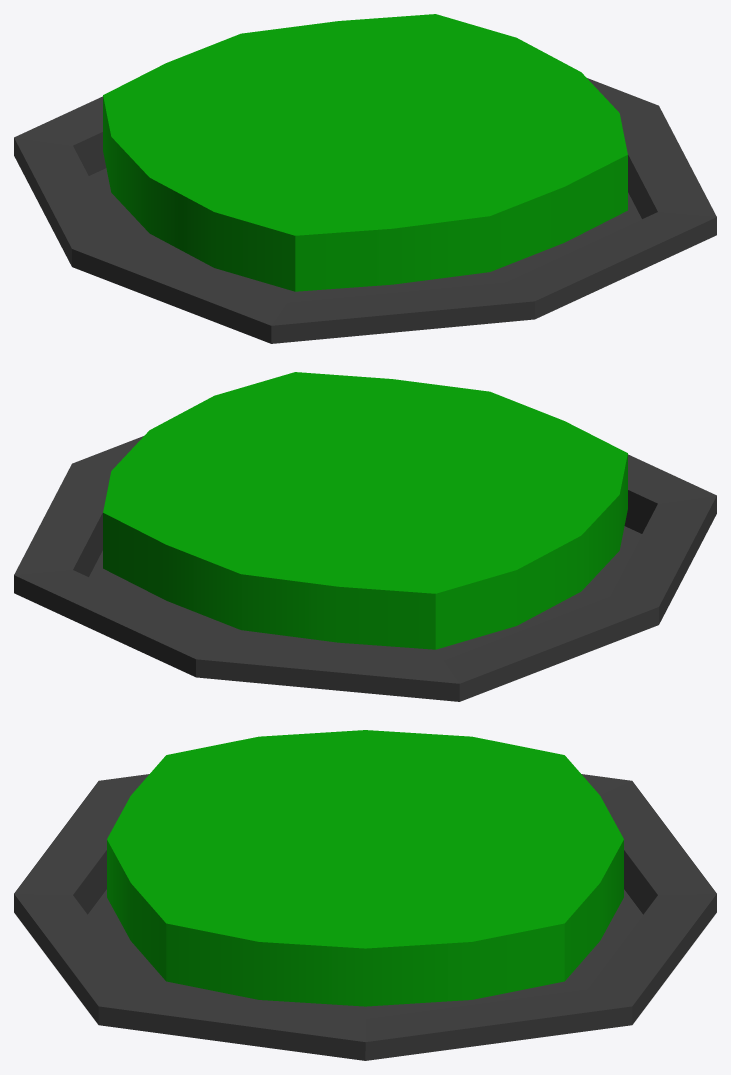
Rendered from Panel (1).fbx.
The picture shows the model from 3 angles, top to bottom: view 1: azimuth 30°, elevation 25°; view 2: azimuth 150°, elevation 25°; view 3: azimuth 270°, elevation 25°; orthographic projection. The views are drawn at different scales.
Visible parts, largest first — view 1: polySurface1, polySurface2; view 2: polySurface1, polySurface2; view 3: polySurface1, polySurface2.
Part boxes in pixels (x1=…): polySurface1: x1=103, y1=14, x2=627, y2=291; polySurface2: x1=14, y1=78, x2=716, y2=343; polySurface1: x1=103, y1=372, x2=627, y2=649; polySurface2: x1=14, y1=436, x2=716, y2=701; polySurface1: x1=107, y1=730, x2=623, y2=1006; polySurface2: x1=14, y1=774, x2=716, y2=1060.
Bounding box in the file's own units: 0.9643 × 0.144 × 0.9643.
